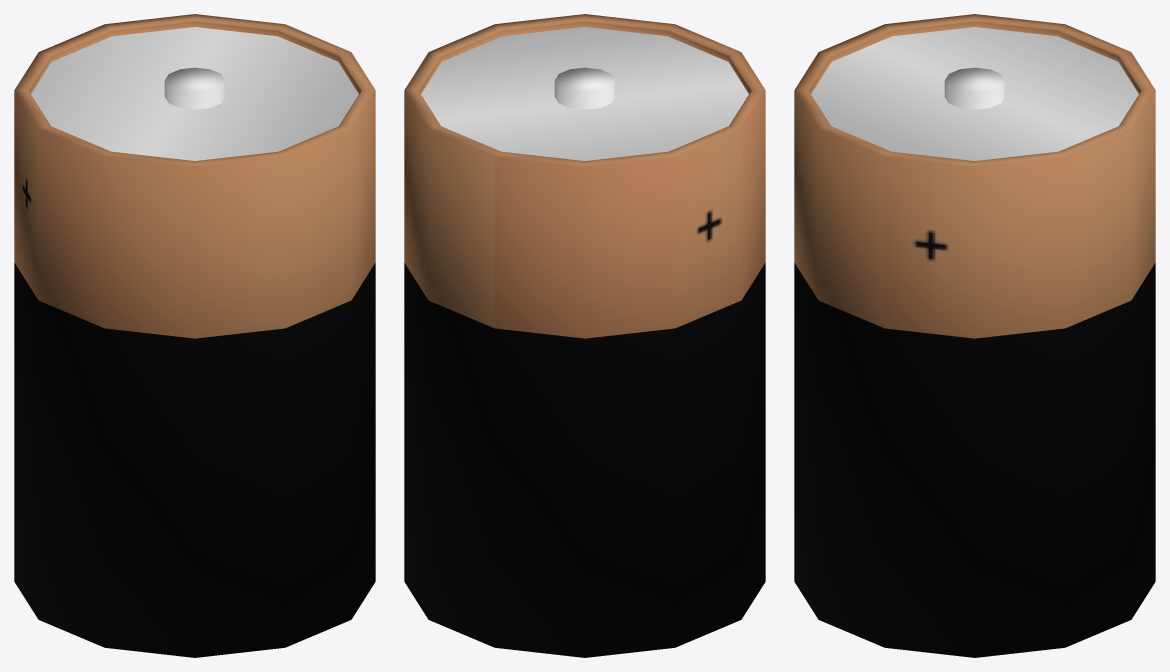
The model's file is battery.fbx.
3 views of the same model, side by side, from view 1: azimuth 30°, elevation 25°; view 2: azimuth 150°, elevation 25°; view 3: azimuth 270°, elevation 25° (orthographic).
Visible parts, largest first — view 1: Cylinder; view 2: Cylinder; view 3: Cylinder.
Boxes of the visible parts, bbox=[...] form: Cylinder: bbox=[14, 14, 375, 657]; Cylinder: bbox=[404, 14, 765, 657]; Cylinder: bbox=[794, 14, 1155, 657].
Bounding box in the file's own units: 200 × 306 × 200.
1 material, 1 textured.
